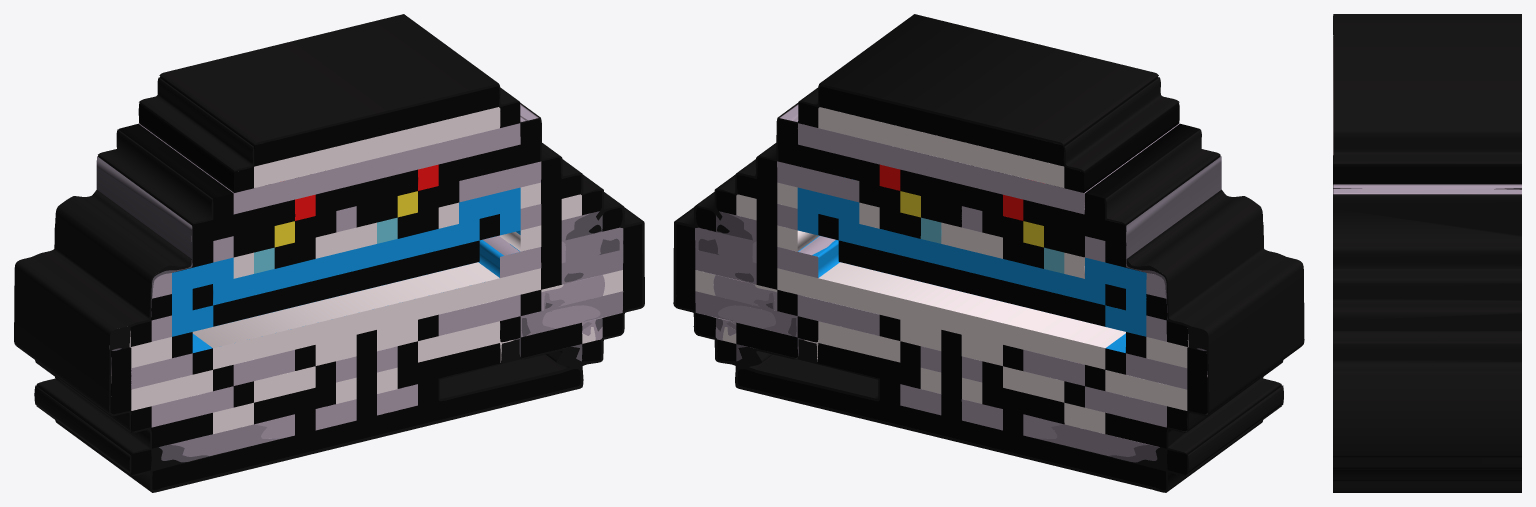
Rendered from Toadz_6673.glb.
3 views of the same model, side by side, from view 1: azimuth 30°, elevation 25°; view 2: azimuth 150°, elevation 25°; view 3: azimuth 270°, elevation 25° (orthographic).
Visible parts, largest first — view 1: Curve; view 2: Curve; view 3: Curve.
Boxes of the visible parts, x1,y1,x2,y2 form: Curve: (14,14,644,492); Curve: (673,14,1304,492); Curve: (1333,14,1521,492).
Bounding box in the file's own units: 3.25 × 1.89 × 1.
